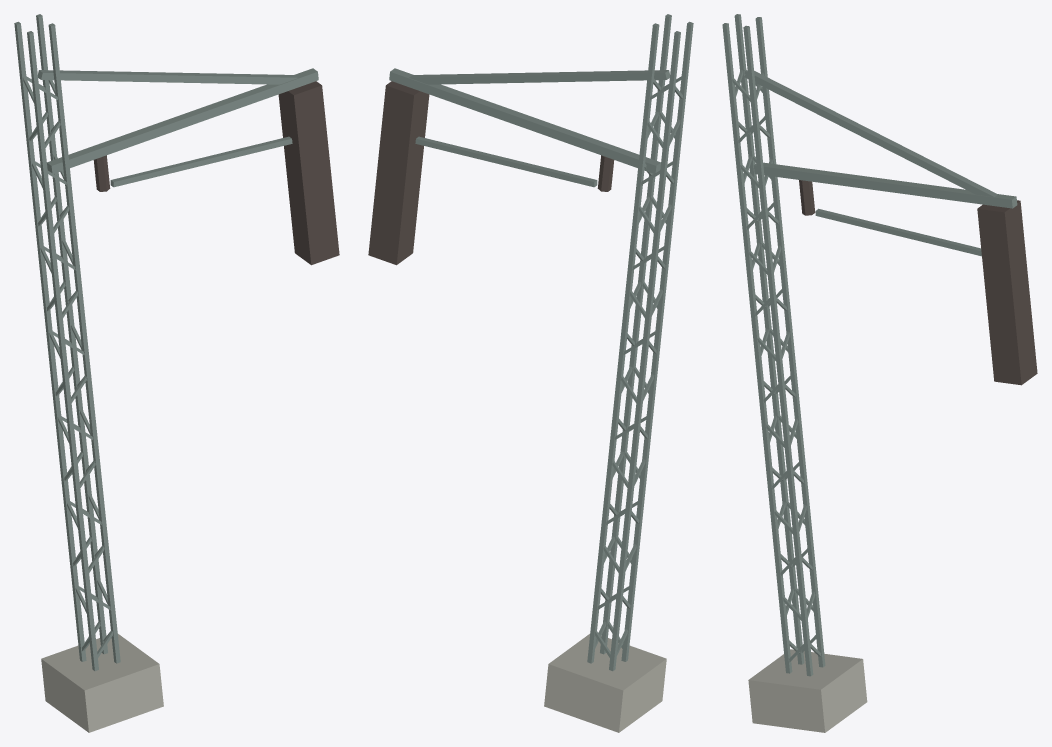
Rendered from SM_poste_catenaria_v1_LOD0.fbx.
3 renders of one model, left to right at view 1: azimuth 30°, elevation 25°; view 2: azimuth 150°, elevation 25°; view 3: azimuth 330°, elevation 25°, orthographic. The views are drawn at different scales.
Parts seen in each view (by area): view 1: SM_bloques.poste_catenaria_v1_LOD0; view 2: SM_bloques.poste_catenaria_v1_LOD0; view 3: SM_bloques.poste_catenaria_v1_LOD0.
Boxes of the visible parts, bbox=[...] form: SM_bloques.poste_catenaria_v1_LOD0: bbox=[14, 14, 339, 732]; SM_bloques.poste_catenaria_v1_LOD0: bbox=[368, 14, 693, 732]; SM_bloques.poste_catenaria_v1_LOD0: bbox=[722, 14, 1037, 732].
Size of the model in its own units: 3.7 by 8.02 by 0.9.
